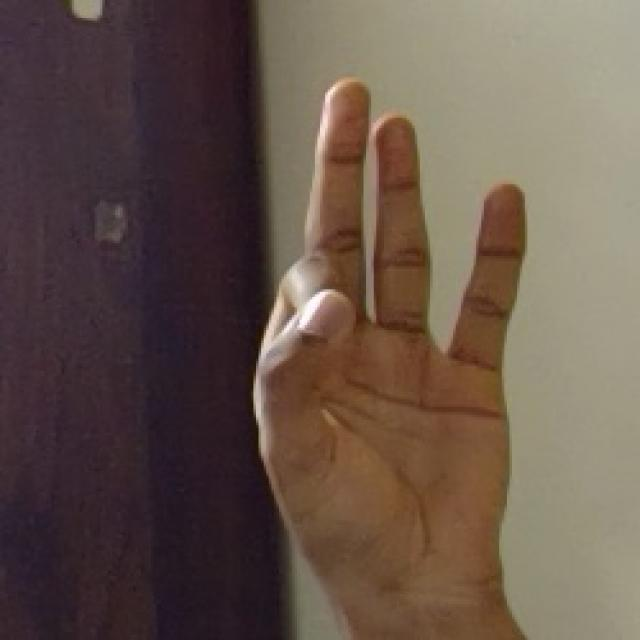Numeric-9: (246, 73, 529, 588)
